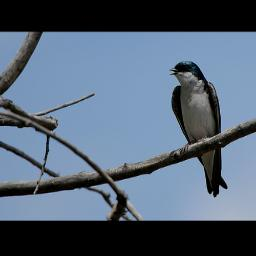Swallow: (168, 61, 228, 198)
